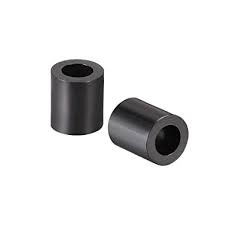No thread: (151, 124, 187, 158), (56, 63, 100, 83)
